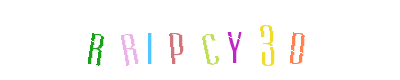3: (199, 0, 279, 80)
C: (165, 0, 245, 80)
D: (203, 0, 283, 80)
I: (109, 0, 189, 80)
P: (160, 0, 240, 80)
R: (55, 0, 135, 80), (108, 0, 188, 80)
Y: (194, 0, 274, 80)
